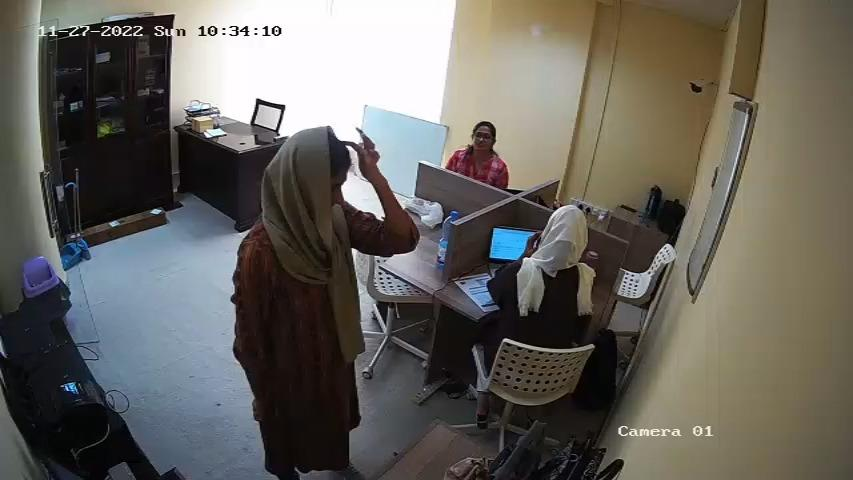no_apron: (258, 231, 359, 434)
